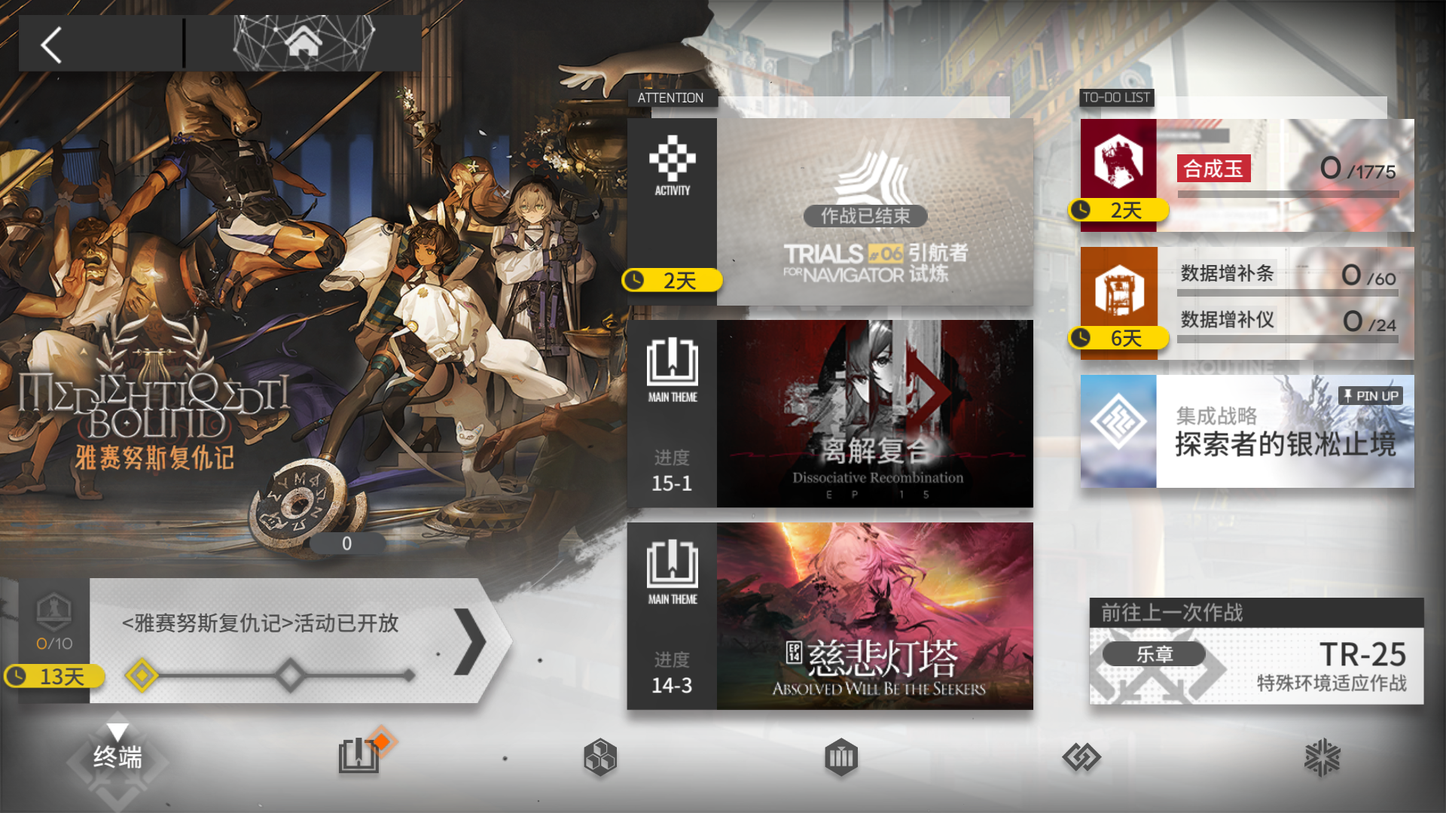Resource_Collection_Button: (533, 711, 671, 802)
Return_Button: (22, 13, 132, 72)
